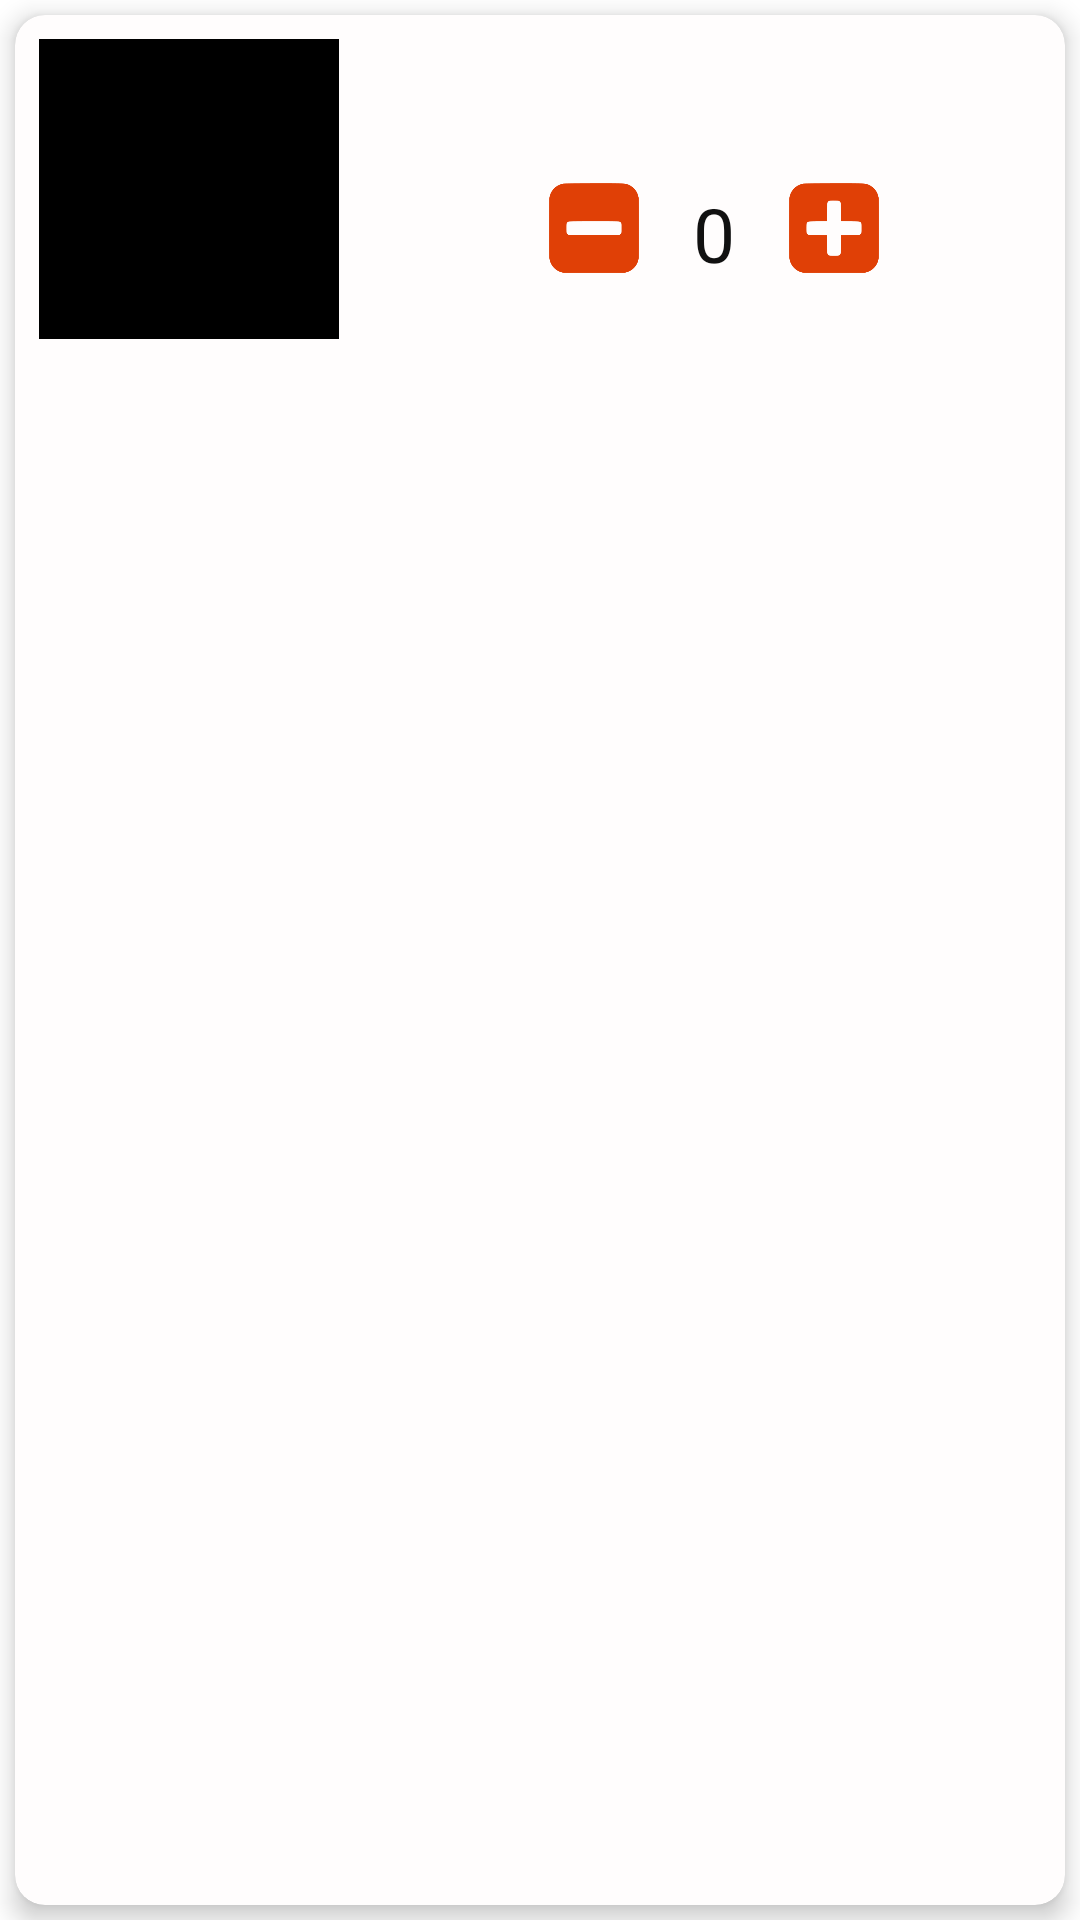

Locate icon controls on the screen. Image size 1080*1920, boxes as (x1, y1, x2, y2).
btnadd: (789, 183, 879, 273)
btnsub: (549, 183, 639, 273)
